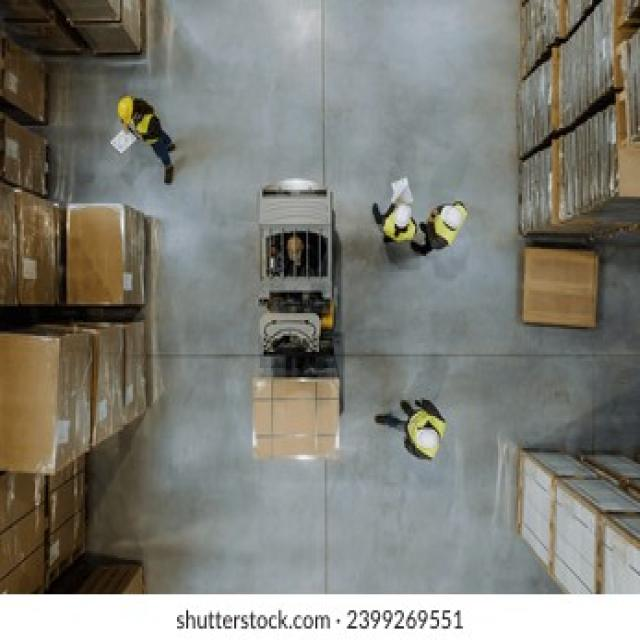box: (241, 363, 359, 471), (4, 331, 86, 483), (59, 183, 145, 311), (522, 256, 604, 339), (82, 316, 128, 456), (123, 315, 167, 440), (0, 32, 58, 114), (1, 112, 64, 181)
